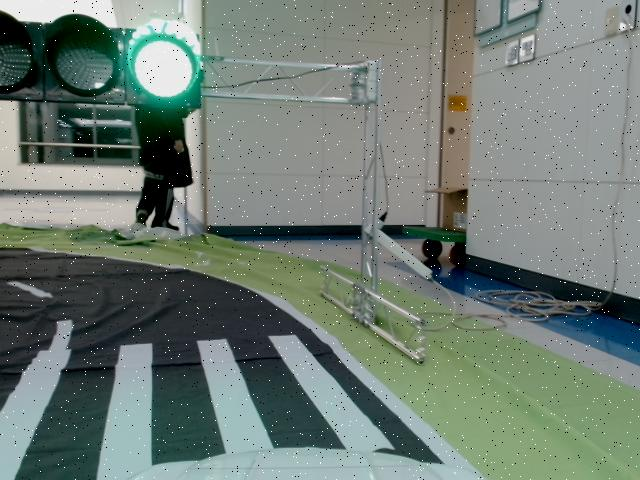crosswalk: (1, 333, 394, 480)
traffic light-green-: (0, 9, 202, 112)
